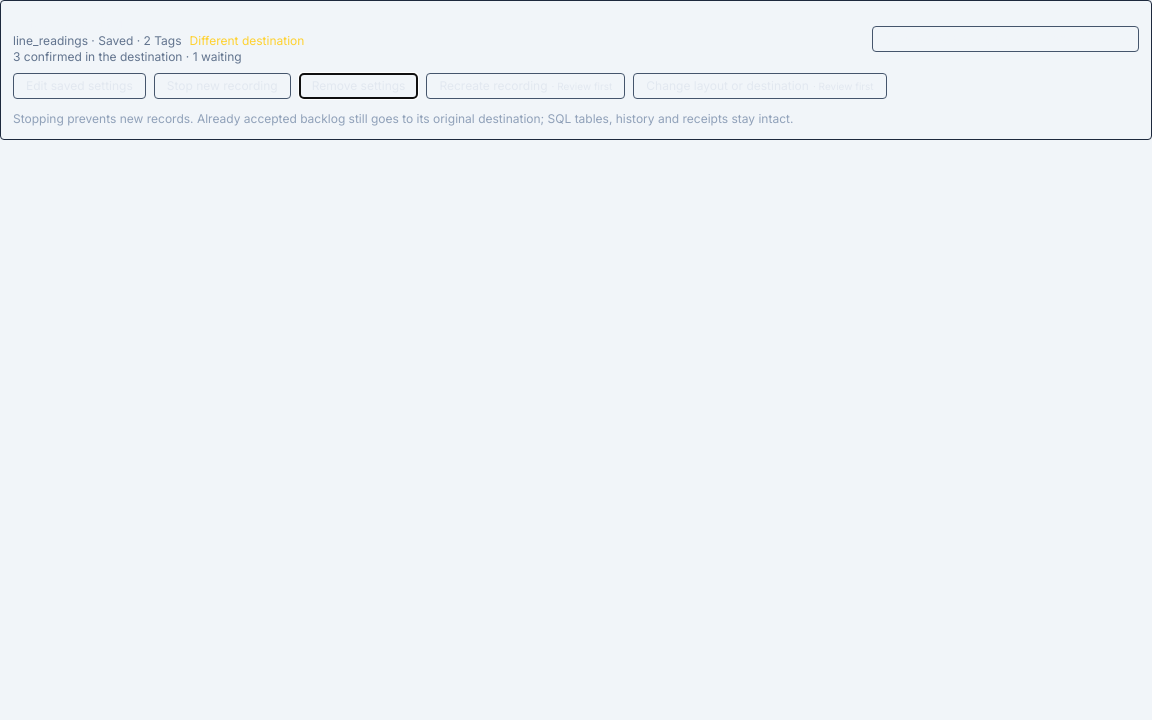
Test: saved-card lifecycle integration and negative authority paths › discloses G1 queued Q1 original destination/history and separate units, then cancel returns focus without mutation
Expected: the text "3 confirmed in the destination · 1 waiting" is shown, [13,49,242,64]
Click the button with test id "group-delete": point(359, 86) [299,73,418,99]
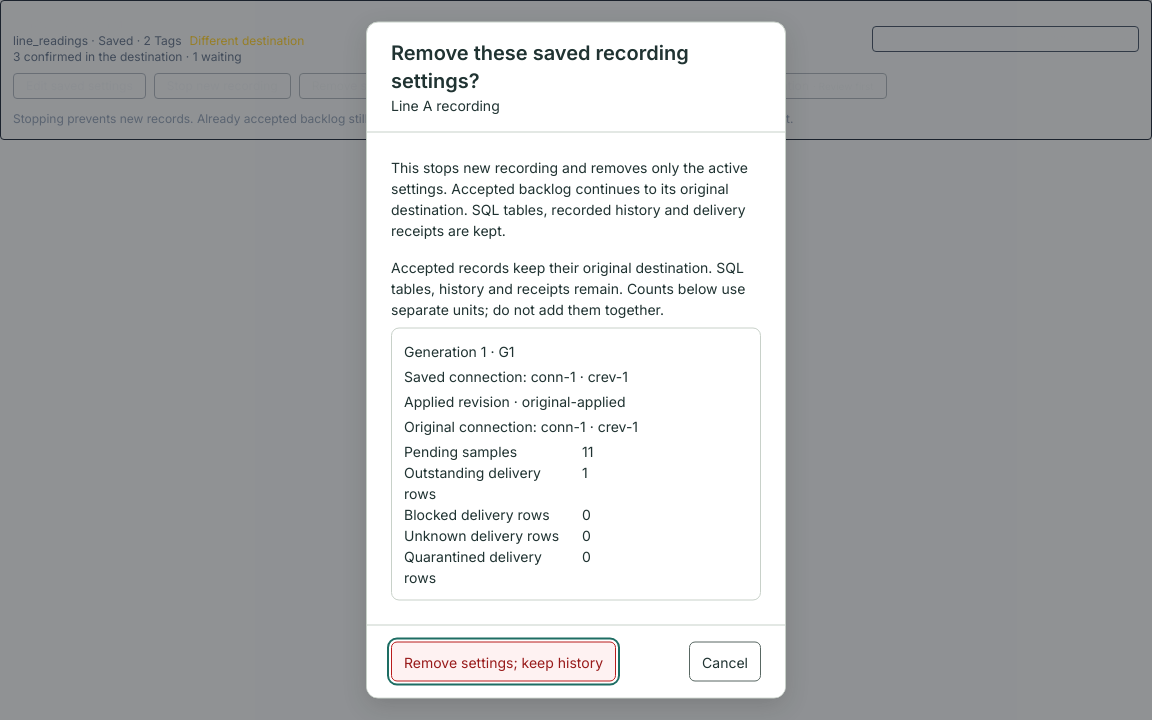
Result: the dialog shows "Accepted backlog continues to its original destination" at [391,158,748,238]
Result: the dialog shows "SQL tables, recorded history and delivery receipts are kept" at [391,158,748,238]
Result: the text with test id "lifecycle-pending-samples" reads "11" at [582,442,593,460]
Click the button with test id "group-delete-cancel": point(725, 662) [689,642,761,682]
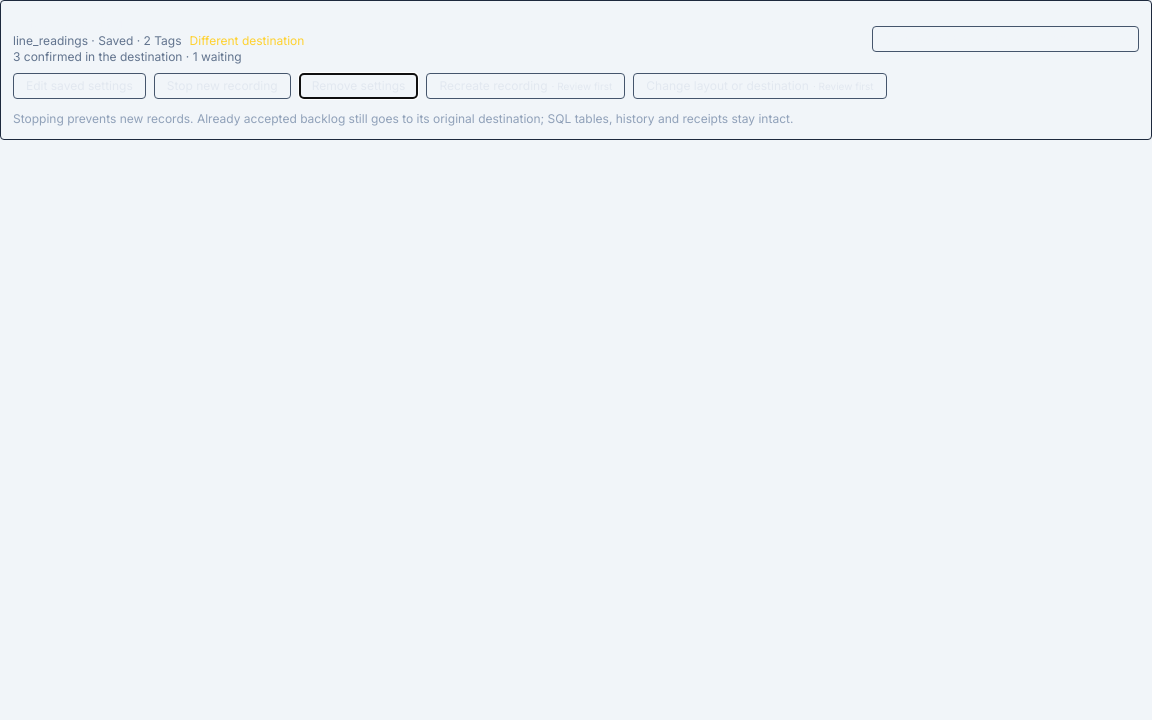
Result: the dialog is gone
